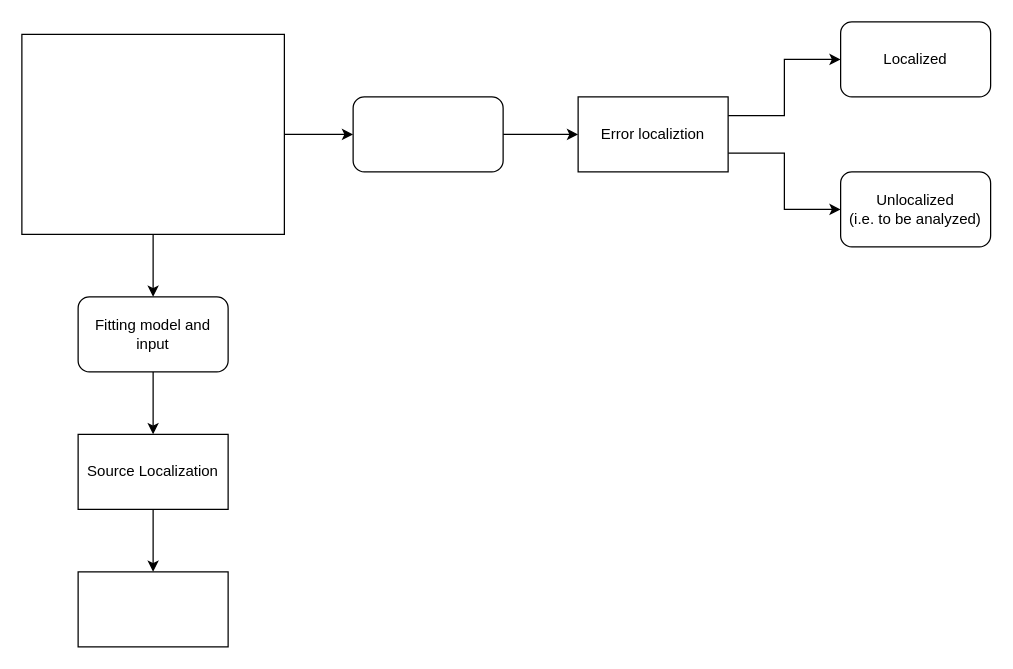
Some shapes in this 1013 by 669 pixel diagram are drawn without their labels. The shapes that lost their labels are listed below. From the top down, each one's centre as x and y in pixels, then its label:
At (152,133): "GA".
At (427,134): "Errors (e.g. NaN)".
At (152,609): "Localized layers".
